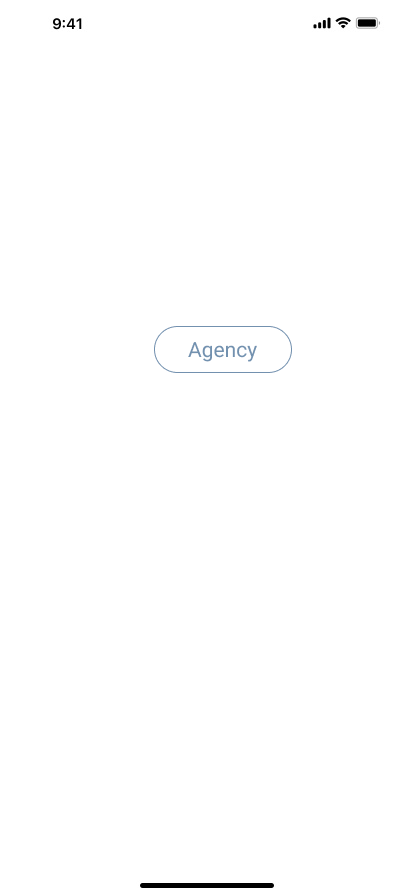Buttons: (154, 326, 300, 373)
Home Indicator: (0, 862, 414, 896)
Status Bar: (0, 0, 414, 44)
